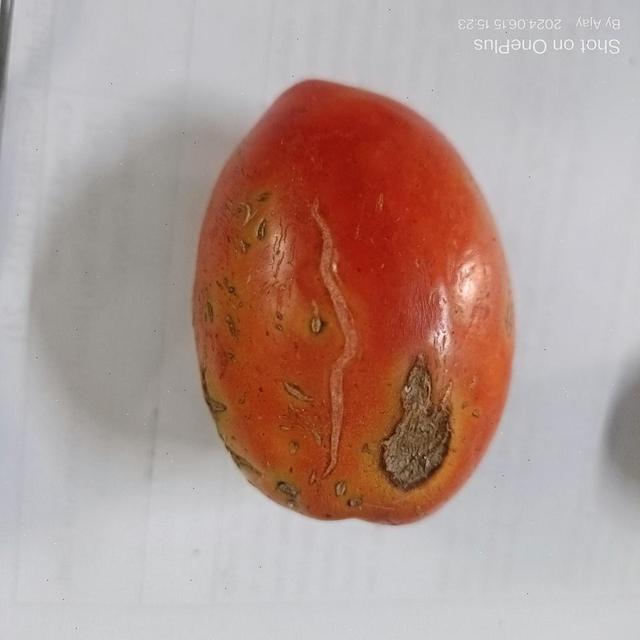Cracking Fruit: (209, 272, 267, 325)
